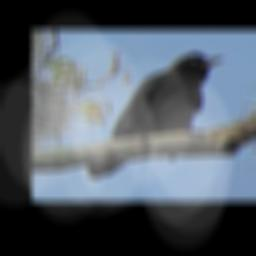Crow: (86, 53, 224, 180)
